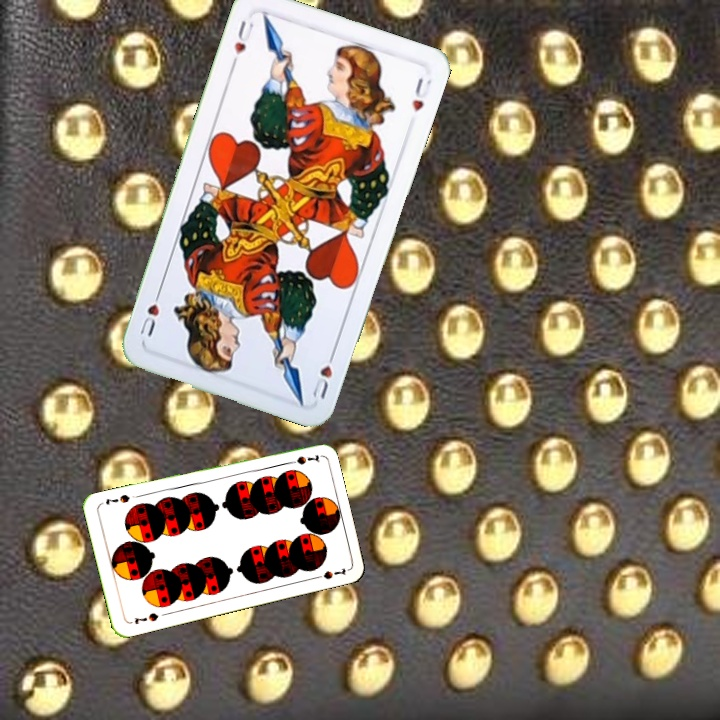HU: (307, 346, 338, 402), (228, 16, 257, 68)
S7: (281, 451, 321, 467), (130, 609, 161, 627)
